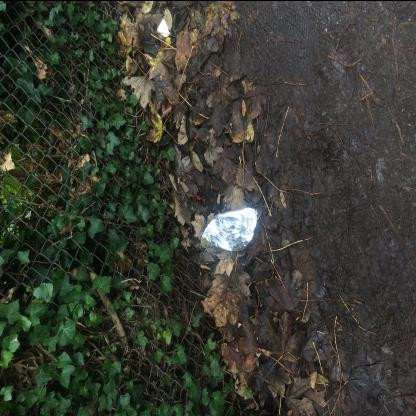metal: (202, 206, 258, 252)
